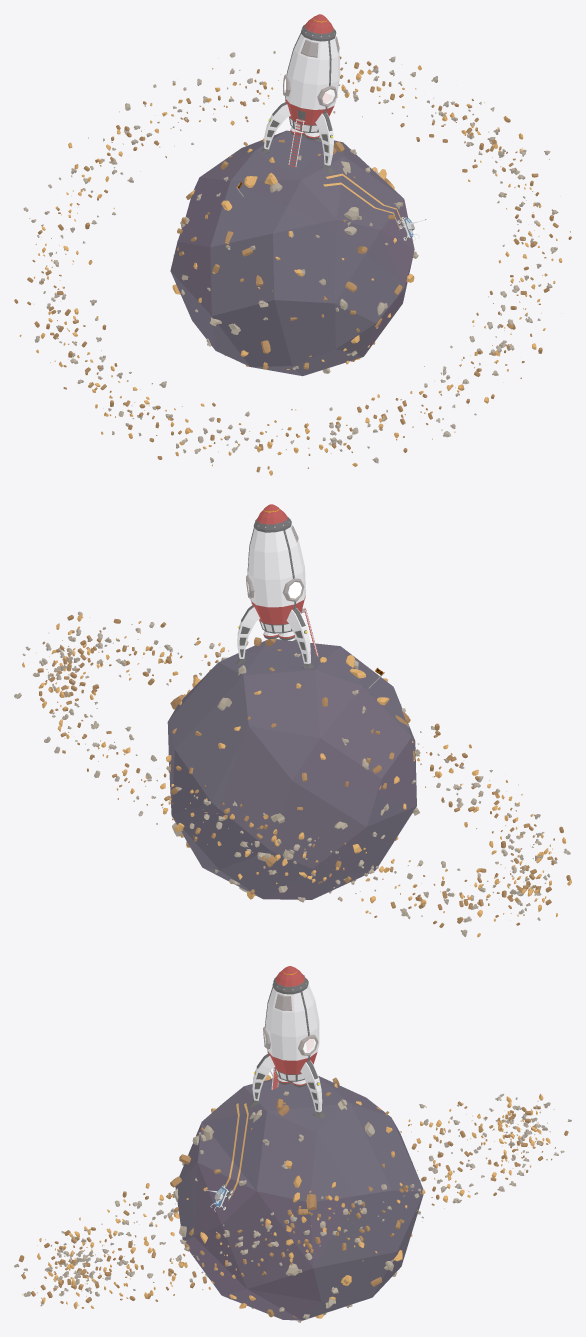
3 views of the same model, one above another, from view 1: azimuth 30°, elevation 25°; view 2: azimuth 150°, elevation 25°; view 3: azimuth 270°, elevation 25° (orthographic). The views are drawn at different scales.
Parts seen in each view (by area): view 1: planet.002, flag; view 2: planet.002, flag; view 3: planet.002, flag.
Part boxes in pixels (x1,y1,x2,y2): planet.002: (14, 14, 570, 475); flag: (15, 51, 571, 475); planet.002: (14, 504, 571, 927); flag: (22, 614, 571, 937); planet.002: (18, 966, 571, 1322); flag: (14, 1094, 570, 1308).
Size of the model in its own units: 30.54 by 22.9 by 31.63.
Materials: 5 (2 with a texture image).
